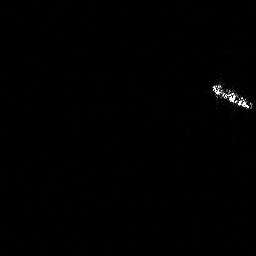ship: (209, 80, 256, 113)
